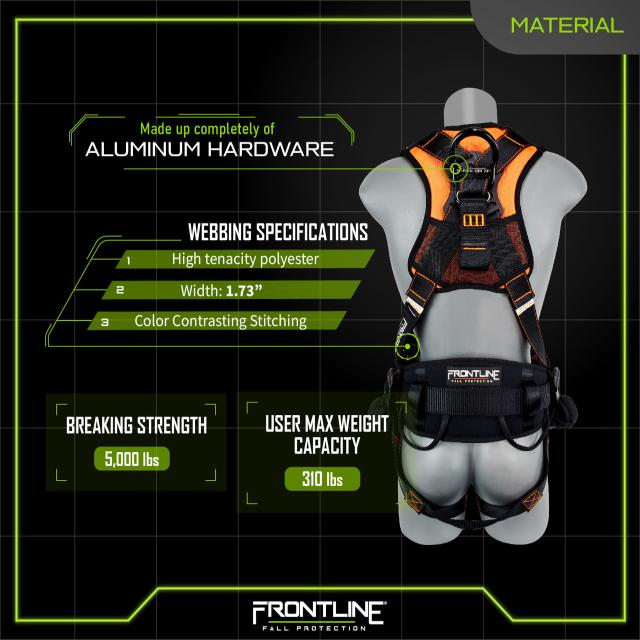Harness: (380, 125, 569, 537)
